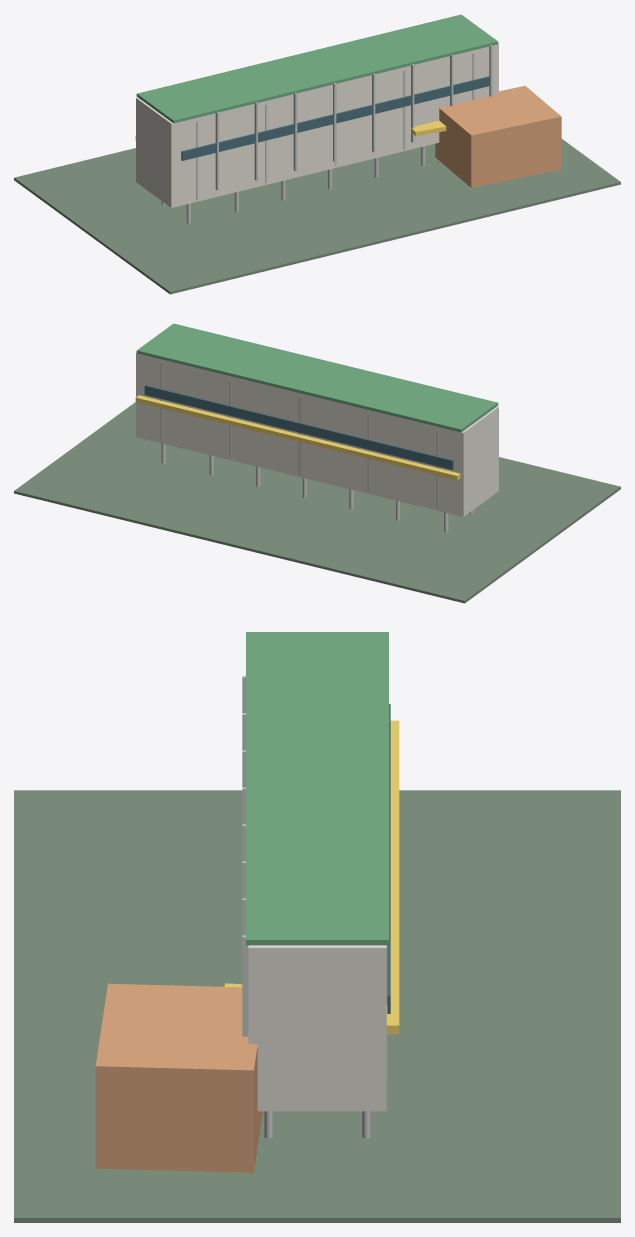
3 views of the same model, one above another, from view 1: azimuth 30°, elevation 25°; view 2: azimuth 150°, elevation 25°; view 3: azimuth 270°, elevation 25° (orthographic). The views are drawn at different scales.
Visible parts, largest first — view 1: 01_site_context / open park ground under housing slab, 02_mass_model / raised residential slab, 06_roof_terrace / collective roof deck, 02_mass_model / communal services block, 04_envelope / south ribbon window band; view 2: 01_site_context / open park ground under housing slab, 02_mass_model / raised residential slab, 06_roof_terrace / collective roof deck, 04_envelope / north ribbon window band, 05_circulation / longitudinal gallery social condenser; view 3: 01_site_context / open park ground under housing slab, 06_roof_terrace / collective roof deck, 02_mass_model / communal services block, 02_mass_model / raised residential slab, 05_circulation / longitudinal gallery social condenser.
Part boxes in pixels (box(x1,y1,x2,y2)): 01_site_context / open park ground under housing slab: box(14, 139, 620, 294); 02_mass_model / raised residential slab: box(136, 43, 498, 207); 06_roof_terrace / collective roof deck: box(136, 14, 498, 123); 02_mass_model / communal services block: box(435, 86, 561, 187); 04_envelope / south ribbon window band: box(181, 76, 490, 160); 01_site_context / open park ground under housing slab: box(14, 402, 620, 603); 02_mass_model / raised residential slab: box(136, 352, 498, 516); 06_roof_terrace / collective roof deck: box(136, 323, 498, 432); 04_envelope / north ribbon window band: box(144, 385, 453, 469); 05_circulation / longitudinal gallery social condenser: box(135, 395, 460, 480); 01_site_context / open park ground under housing slab: box(14, 790, 620, 1222); 06_roof_terrace / collective roof deck: box(246, 632, 388, 945); 02_mass_model / communal services block: box(95, 983, 262, 1172); 02_mass_model / raised residential slab: box(248, 945, 386, 1111); 05_circulation / longitudinal gallery social condenser: box(386, 720, 399, 1034).
Size of the model in its own units: 30 by 7.3 by 18.
